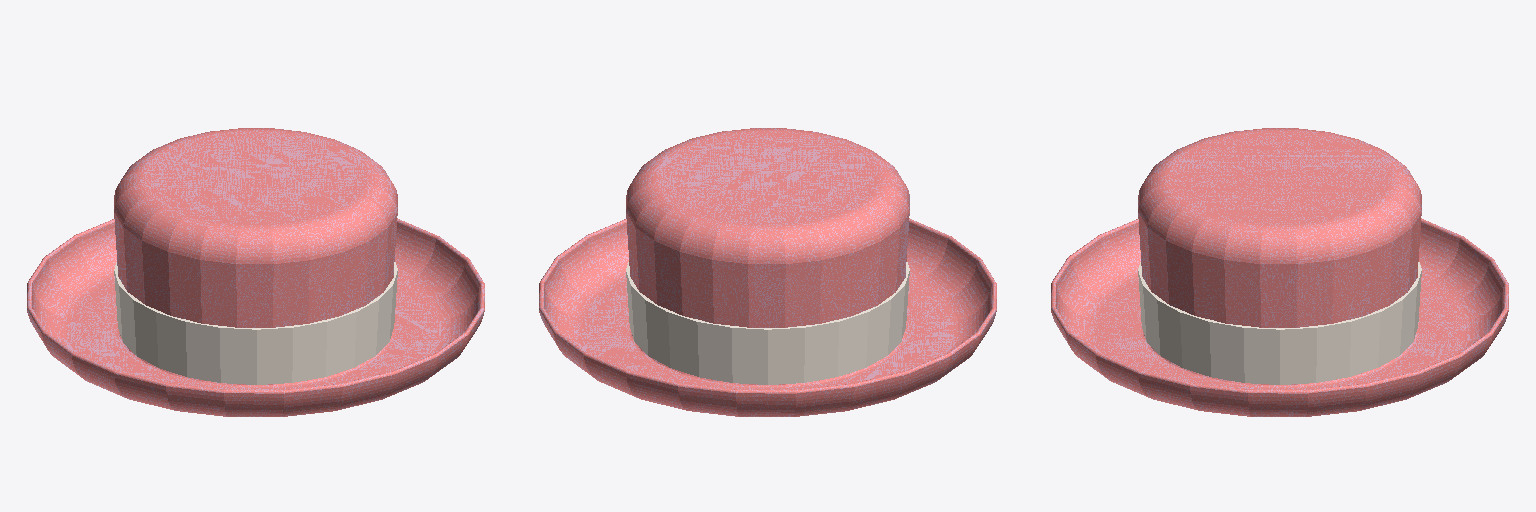
The picture shows the model from 3 angles: view 1: azimuth 30°, elevation 25°; view 2: azimuth 150°, elevation 25°; view 3: azimuth 270°, elevation 25°; orthographic projection.
Visible parts, largest first — view 1: group_2.001_ID30.002, group_2_ID20.004, group_1_ID5.014; view 2: group_2.001_ID30.002, group_2_ID20.004, group_1_ID5.014; view 3: group_2.001_ID30.002, group_2_ID20.004, group_1_ID5.014.
Part boxes in pixels (bbox=[...]): group_2.001_ID30.002: bbox=[114, 128, 397, 387]; group_2_ID20.004: bbox=[27, 218, 484, 416]; group_1_ID5.014: bbox=[114, 262, 397, 384]; group_2.001_ID30.002: bbox=[626, 128, 909, 387]; group_2_ID20.004: bbox=[539, 218, 996, 416]; group_1_ID5.014: bbox=[626, 262, 909, 384]; group_2.001_ID30.002: bbox=[1138, 128, 1421, 387]; group_2_ID20.004: bbox=[1051, 218, 1508, 416]; group_1_ID5.014: bbox=[1138, 262, 1421, 384].
Bounding box in the file's own units: 0.2693 × 0.1012 × 0.2693.